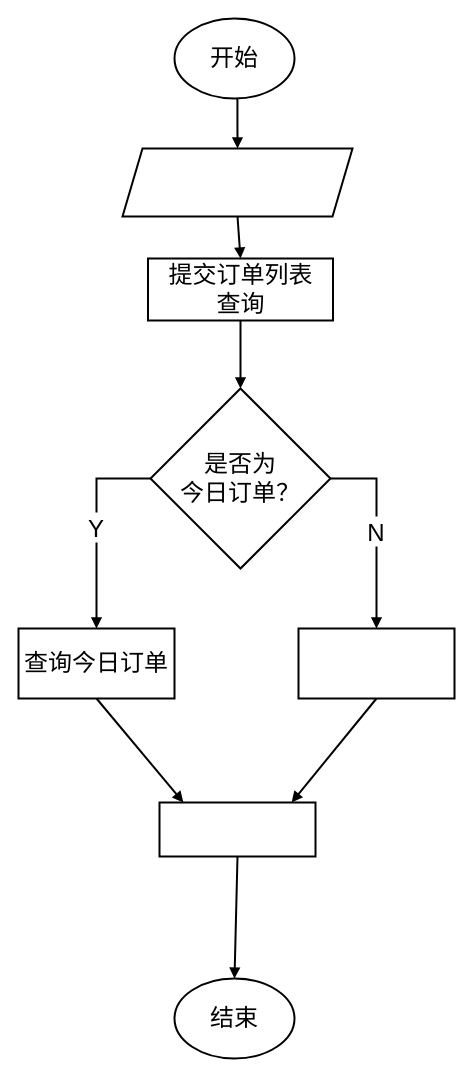
Image size: 472x1076. Some labels were removed from this diagram. The centre of each missing label's shape, as x and y in pixels:
查询当前用户 全部订单: (376,663)
输入订单状态等 查询条件: (237,182)
返回订单列表: (237,829)
